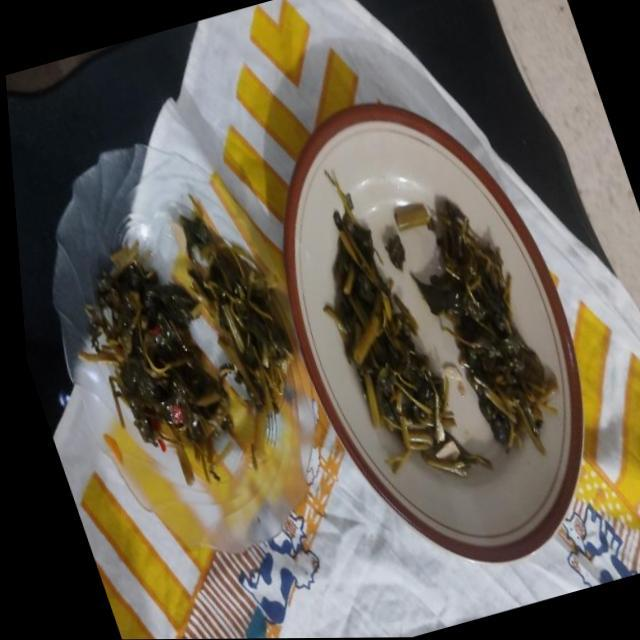tumis_kangkung: (323, 171, 491, 476), (414, 196, 557, 453), (86, 243, 232, 484), (179, 210, 293, 410)
